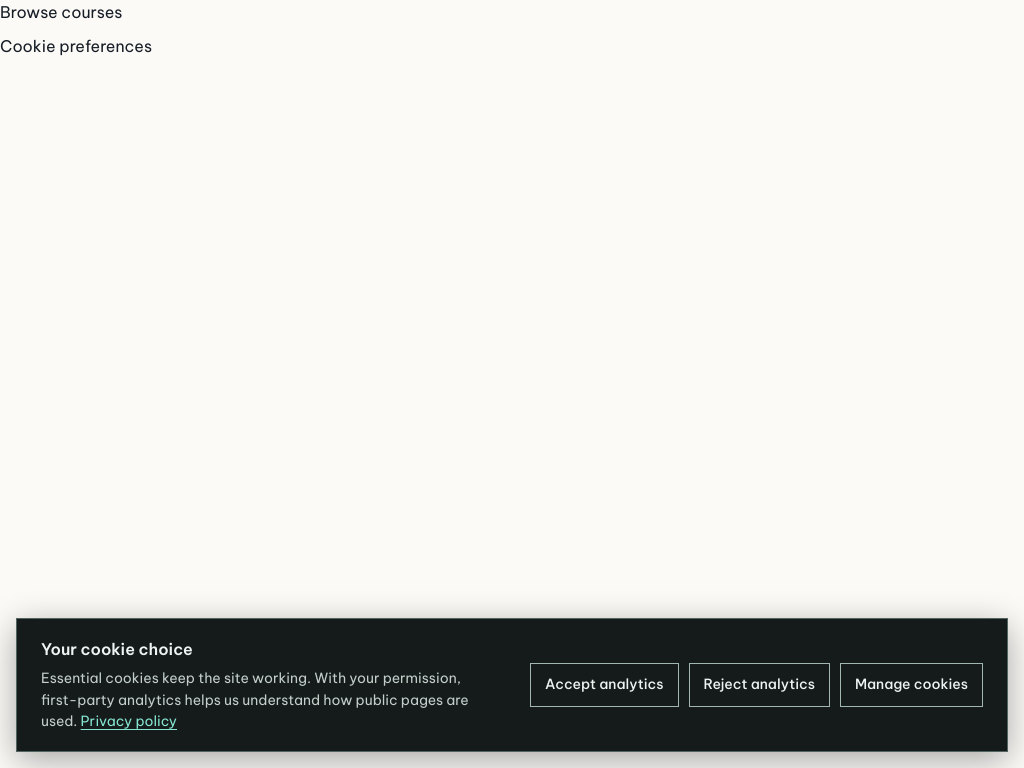
Test: public cookie consent controls › returns focus to footer preferences after saving granted from the banner dialog
Click the button "Manage cookies": (911, 685) [840,663,983,707]
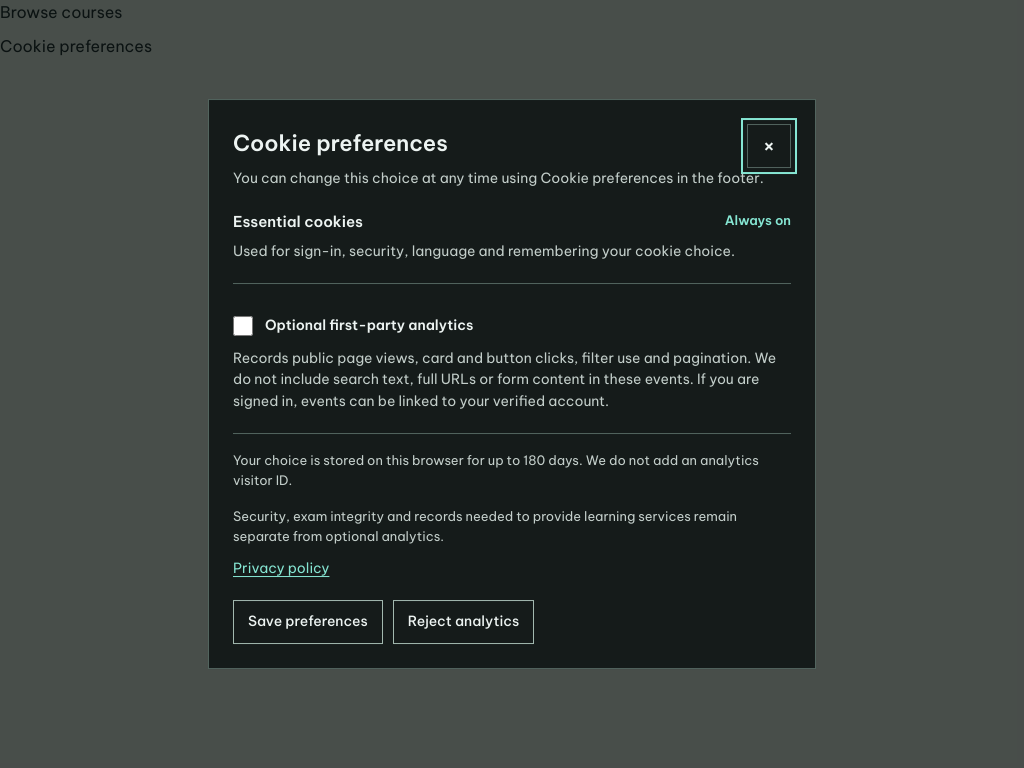
Click the checkbox labelled "Optional first-party analytics": (243, 326) [233,316,253,336]
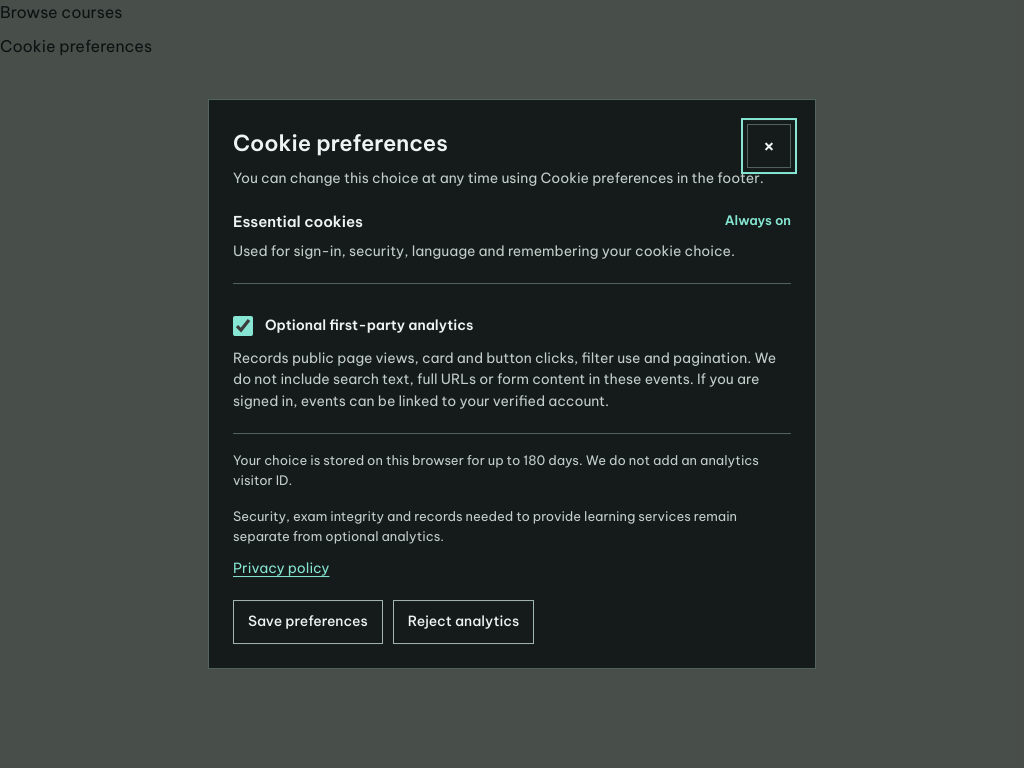
Click the button "Save preferences": (308, 622) [233,600,383,644]
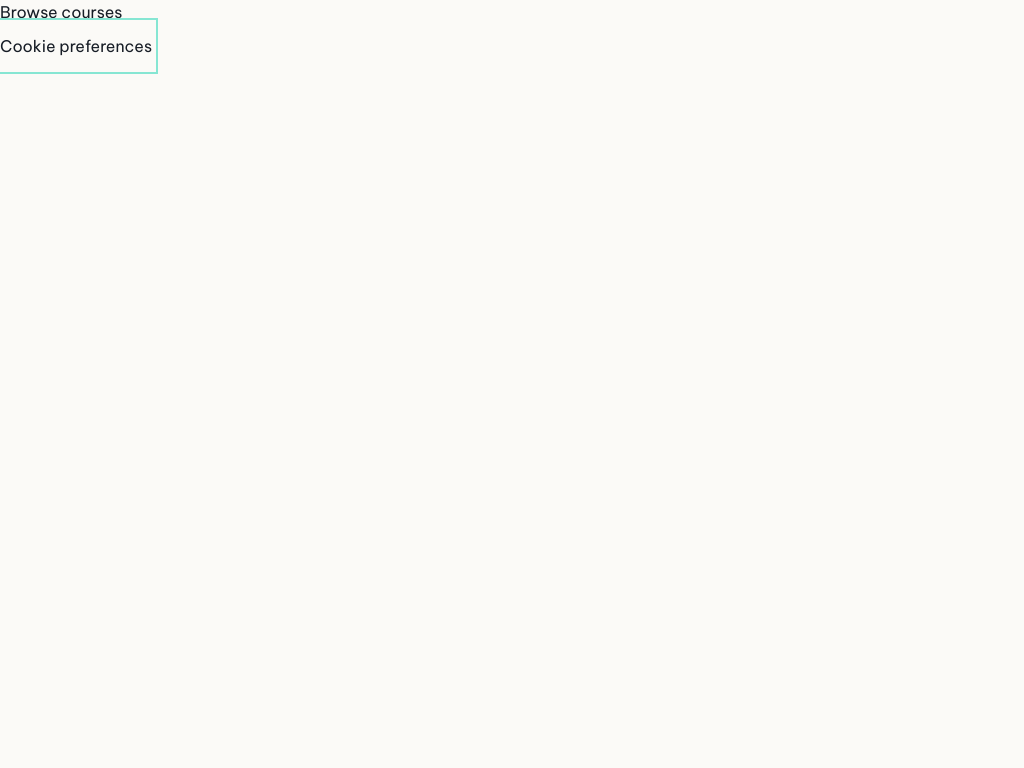
Expected: the button "Manage cookies" is not shown
Now the dialog is gone
